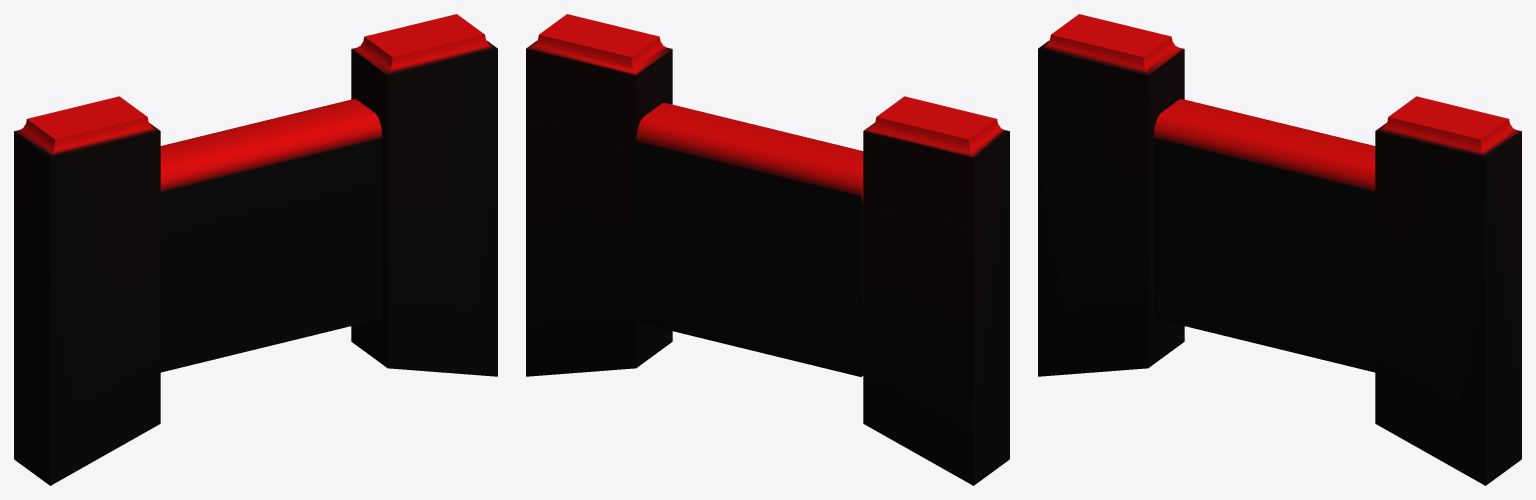
Rendered from RoofTopSideFinish.fbx.
The picture shows the model from 3 angles, left to right: view 1: azimuth 30°, elevation 25°; view 2: azimuth 150°, elevation 25°; view 3: azimuth 330°, elevation 25°; orthographic projection.
Visible parts, largest first — view 1: RoofTopSideFinish; view 2: RoofTopSideFinish; view 3: RoofTopSideFinish.
Part boxes in pixels (left/top/right/bottom): RoofTopSideFinish: left=14, top=14, right=497, bottom=485; RoofTopSideFinish: left=526, top=14, right=1009, bottom=485; RoofTopSideFinish: left=1038, top=14, right=1521, bottom=485.
Size of the model in its own units: 398 by 290 by 57.6.
